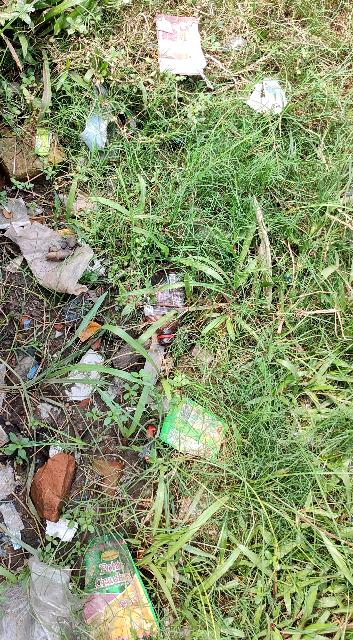packet: (67, 536, 155, 640), (176, 373, 228, 476)
